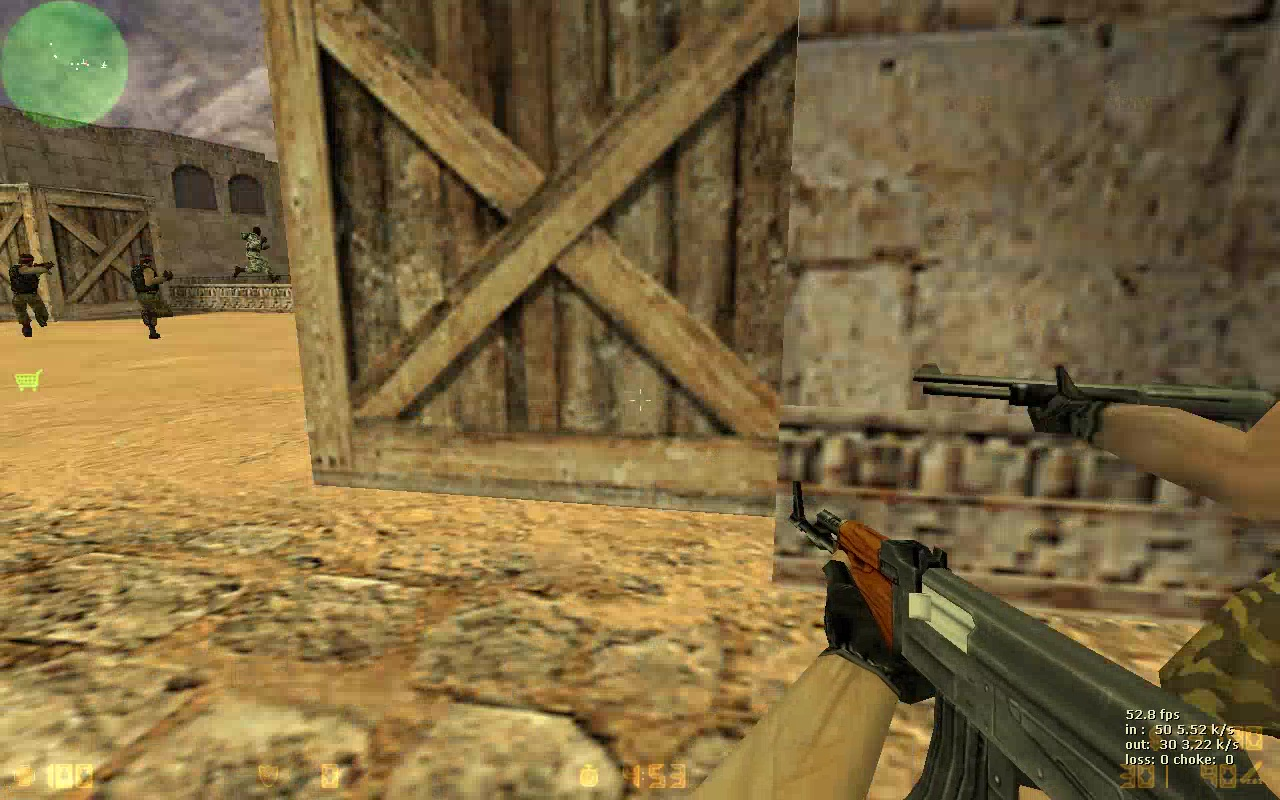terr1: (8, 253, 56, 340), (128, 256, 178, 337)
